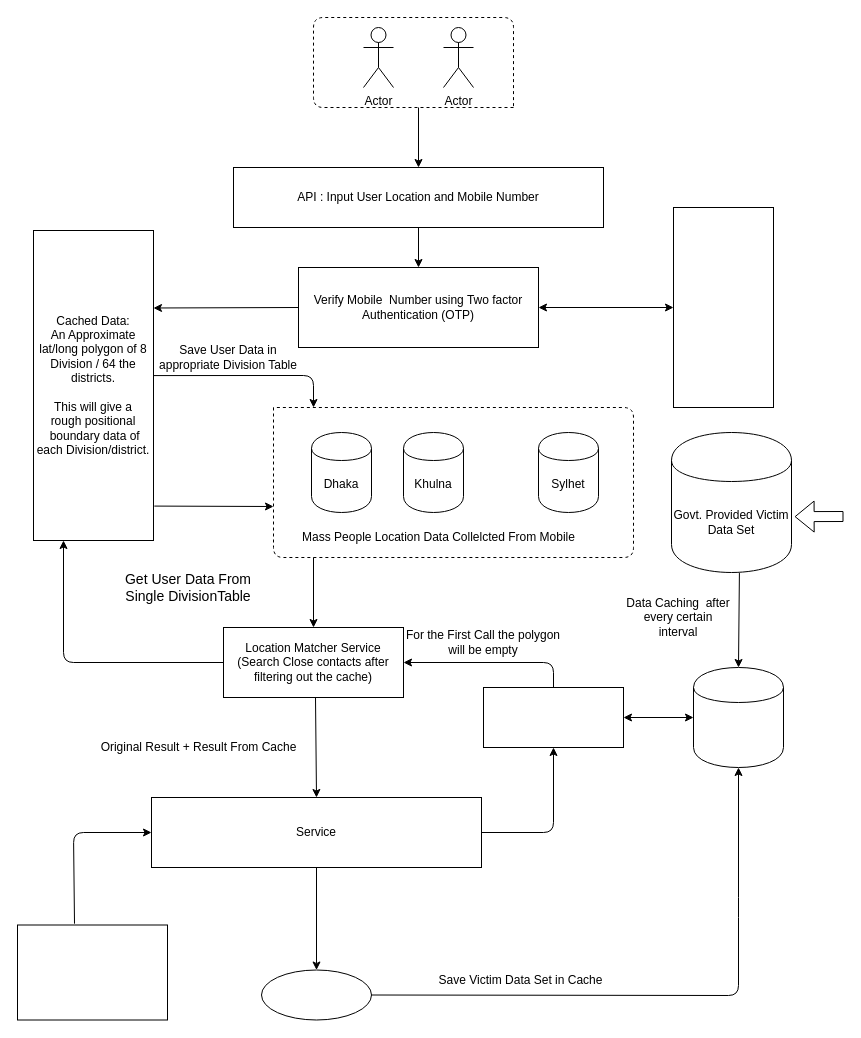
The diagram is 861 pixels wide and 1038 high, and some of its shapes have lost their labels. The centre of each missing label's shape, as x and y in pixels:
"3rd Party Mobile Number Varifier" belongs at point (723, 307).
"All victims Cached Data Polygon" belongs at point (738, 717).
"API: Mobile Number and Victim Location (Division/District) Input Box" belongs at point (92, 972).
"Look into Past Victims Cached Polygon" belongs at point (553, 717).
"Result" belongs at point (316, 994).
